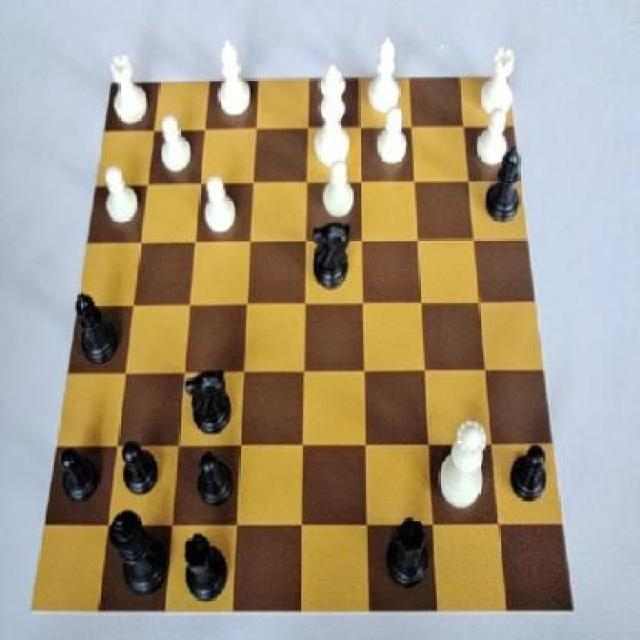bishop: (72, 291, 122, 380), (480, 142, 528, 226)
black-bishop: (103, 508, 172, 605)
black-king: (303, 209, 359, 301), (185, 365, 237, 449)
black-knight: (502, 436, 553, 514), (190, 446, 242, 515), (119, 435, 166, 510), (54, 442, 106, 502)
black-queen: (178, 518, 231, 606), (383, 514, 430, 599)
black-rook: (362, 35, 411, 118), (208, 36, 256, 120)
white-bishop: (310, 60, 354, 175)
white-knight: (94, 163, 143, 235), (200, 171, 242, 247), (368, 103, 413, 171), (318, 158, 362, 222), (157, 110, 195, 182), (475, 108, 513, 168)
white-pawn: (432, 411, 500, 522)
white-queen: (105, 44, 149, 130), (477, 43, 523, 117)
